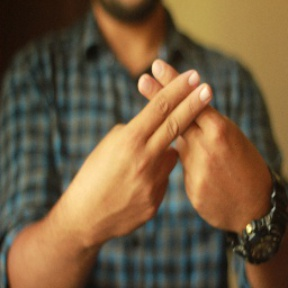F: (109, 44, 246, 181)
